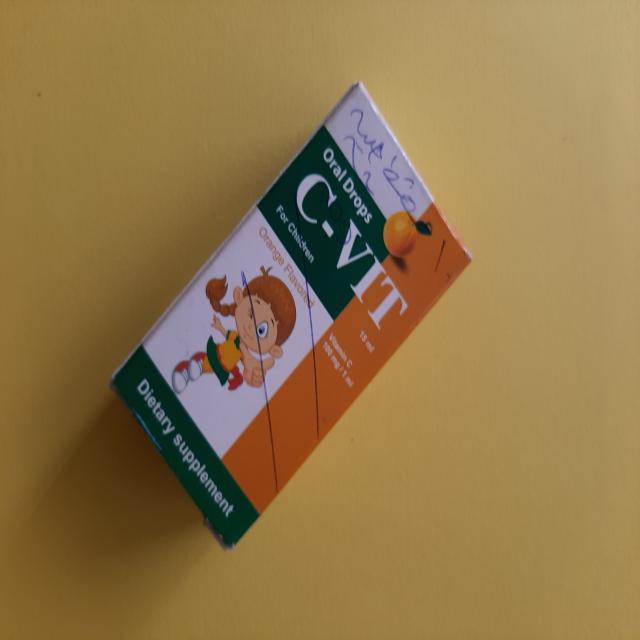C-VIT: (105, 77, 477, 568)
